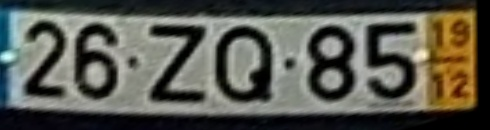2: (20, 18, 71, 99)
5: (365, 19, 420, 102)
6: (71, 19, 123, 103)
8: (305, 22, 359, 105)
Q: (213, 23, 276, 107)
Z: (147, 23, 210, 104)
